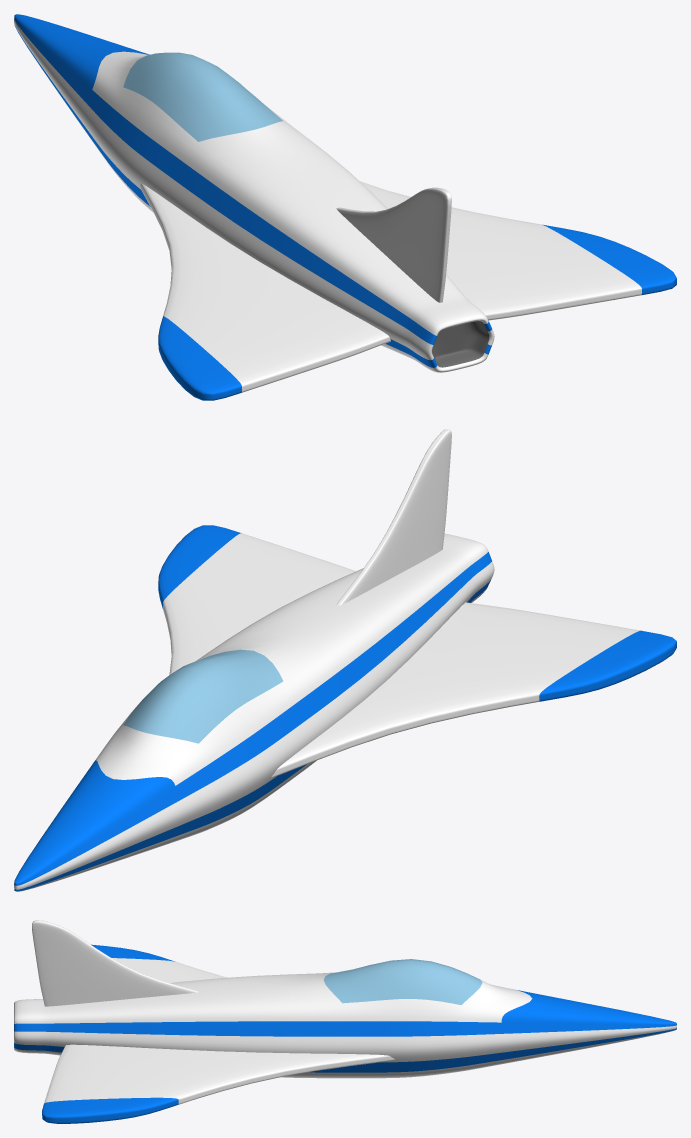
The model's file is qiricifason.fbx.
3 views of the same model, one above another, from view 1: azimuth 30°, elevation 25°; view 2: azimuth 150°, elevation 25°; view 3: azimuth 270°, elevation 25° (orthographic). The views are drawn at different scales.
Visible parts, largest first — view 1: Cube.021, Cube.012, Cube.010, Cube.006; view 2: Cube.021, Cube.012, Cube.010, Cube.006; view 3: Cube.021, Cube.010, Cube.006, Cube.012.
Part boxes in pixels (x1,y1,x2,y2): Cube.021: (14,14,494,372); Cube.012: (139,183,390,400); Cube.010: (360,181,676,320); Cube.006: (336,187,451,302); Cube.021: (14,533,494,891); Cube.012: (270,602,676,778); Cube.010: (158,525,355,674); Cube.006: (336,429,451,605); Cube.021: (14,959,676,1078); Cube.010: (42,1044,395,1123); Cube.006: (32,920,198,1006); Cube.012: (91,944,226,982).
Size of the model in its own units: 1556 by 602 by 2510.
